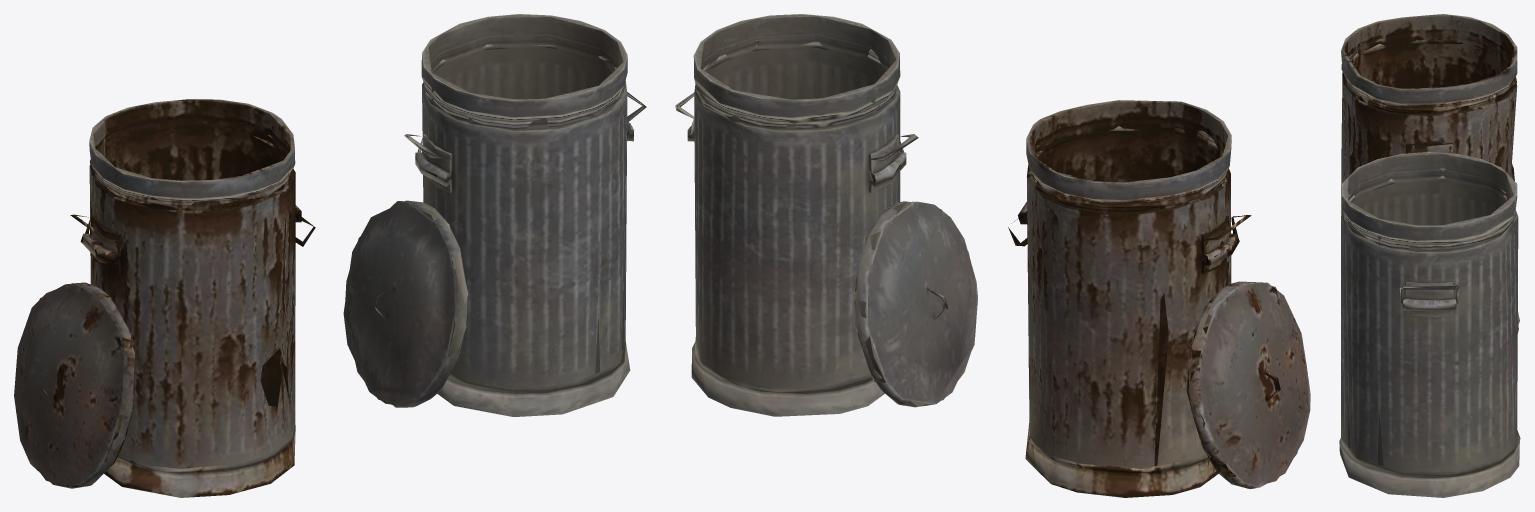
Rendered from metal_trash_can.glb.
The picture shows the model from 3 angles, left to right: view 1: azimuth 30°, elevation 25°; view 2: azimuth 150°, elevation 25°; view 3: azimuth 270°, elevation 25°; orthographic projection. The views are drawn at different scales.
Visible parts, largest first — view 1: metal_trash_can_handle_left, metal_trash_can_rust; view 2: metal_trash_can_handle_left, metal_trash_can_rust; view 3: metal_trash_can_handle_left, metal_trash_can_rust.
Boxes of the visible parts, x1,y1,x2,y2 form: metal_trash_can_handle_left: (343,14,646,416); metal_trash_can_rust: (14,99,315,497); metal_trash_can_handle_left: (675,14,977,416); metal_trash_can_rust: (1008,100,1310,497); metal_trash_can_handle_left: (1339,152,1520,497); metal_trash_can_rust: (1341,14,1519,324).
Size of the model in its own units: 1.78 by 0.9062 by 0.5502.
2 materials, 2 textured.
